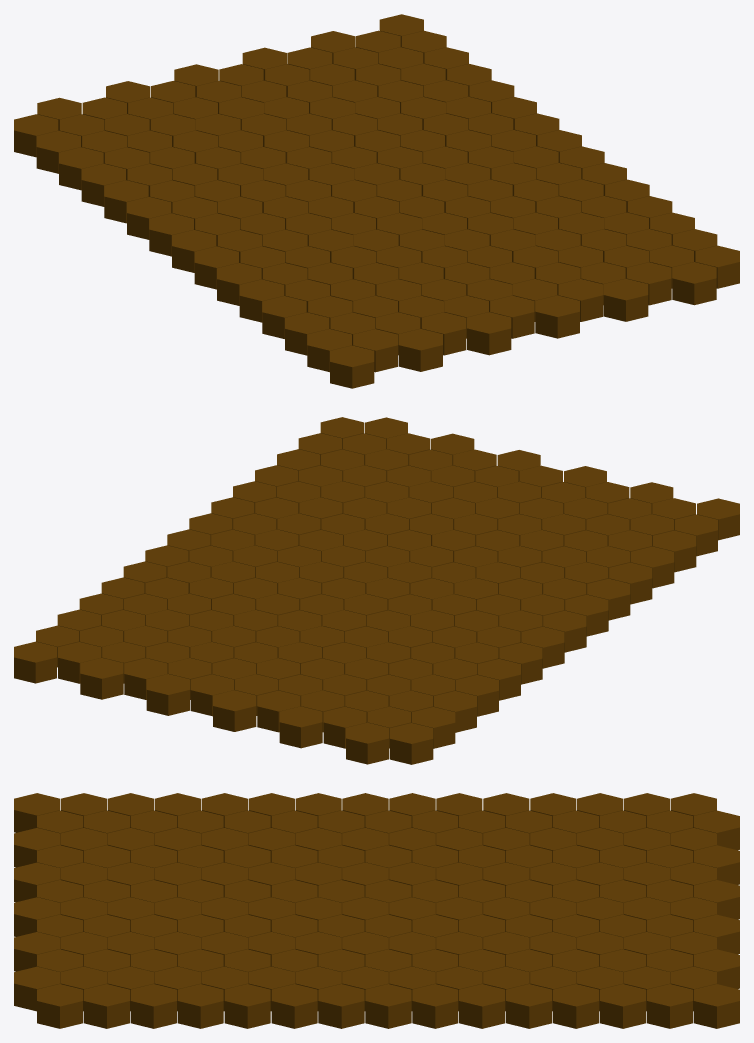
Rendered from floor hell.fbx.
3 renders of one model, top to bottom at view 1: azimuth 30°, elevation 25°; view 2: azimuth 150°, elevation 25°; view 3: azimuth 270°, elevation 25°, orthographic. The views are drawn at different scales.
Parts seen in each view (by area): view 1: pCylinder181; view 2: pCylinder181; view 3: pCylinder181.
Boxes of the visible parts, x1=… form: pCylinder181: x1=14, y1=14, x2=739, y2=388; pCylinder181: x1=14, y1=417, x2=739, y2=764; pCylinder181: x1=14, y1=793, x2=739, y2=1028.
Bounding box in the file's own units: 219 × 10.7 × 315.
